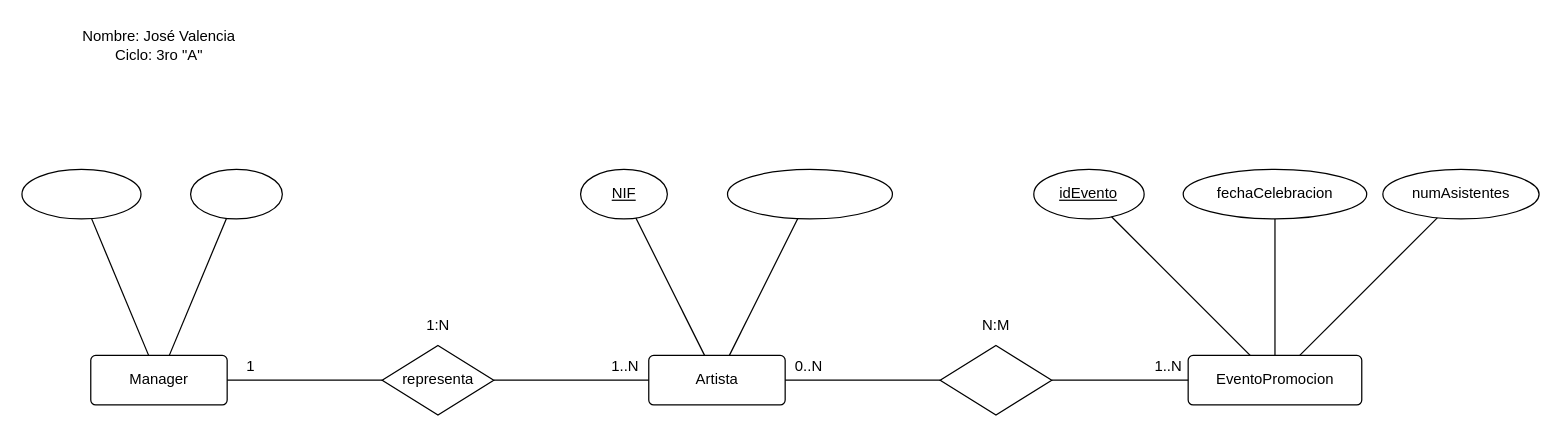
This 1561x438 diagram has some shape labels left out. Each missing label, with the box of its shape:
idManager: (21, 168, 141, 219)
nombre: (189, 168, 282, 219)
nombreCompleto: (726, 168, 892, 219)
participa: (939, 344, 1052, 415)
